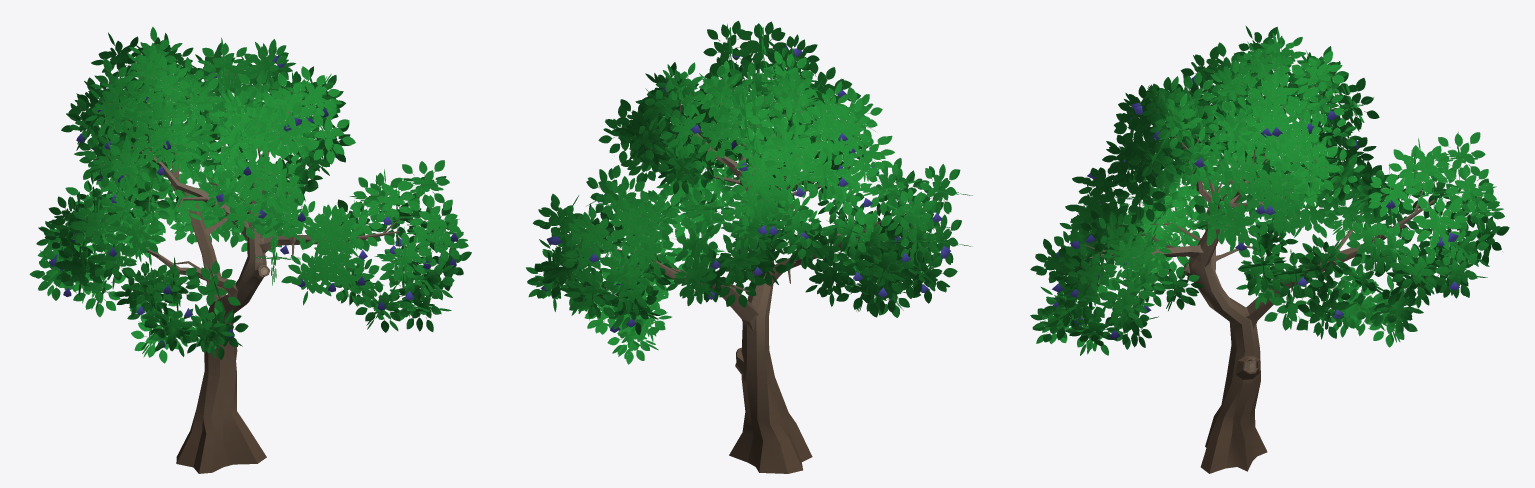
The model's file is PT_Fruit_Tree_01_plums.fbx.
3 views of the same model, side by side, from view 1: azimuth 30°, elevation 25°; view 2: azimuth 150°, elevation 25°; view 3: azimuth 270°, elevation 25° (orthographic).
Parts seen in each view (by area): view 1: PT_Fruit_Tree_01_plums_LOD0; view 2: PT_Fruit_Tree_01_plums_LOD0; view 3: PT_Fruit_Tree_01_plums_LOD0.
Boxes of the visible parts, left/top/right/bottom form: PT_Fruit_Tree_01_plums_LOD0: left=29, top=27, right=471, bottom=473; PT_Fruit_Tree_01_plums_LOD0: left=526, top=20, right=972, bottom=473; PT_Fruit_Tree_01_plums_LOD0: left=1030, top=26, right=1509, bottom=473.
Size of what is drawn, in the model's own units: 650 by 658 by 725.
